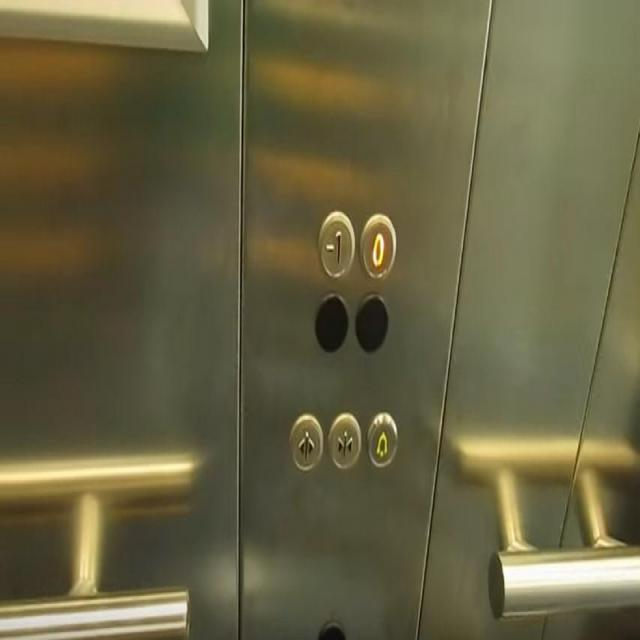-1: (316, 208, 356, 280)
0: (358, 211, 397, 280)
alarm: (364, 410, 400, 470)
close: (327, 409, 362, 472)
empty: (353, 289, 389, 355), (313, 290, 349, 354)
open: (288, 409, 322, 472)
